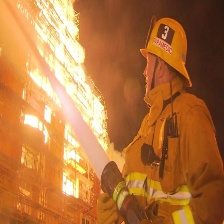fire: (17, 1, 117, 194)
